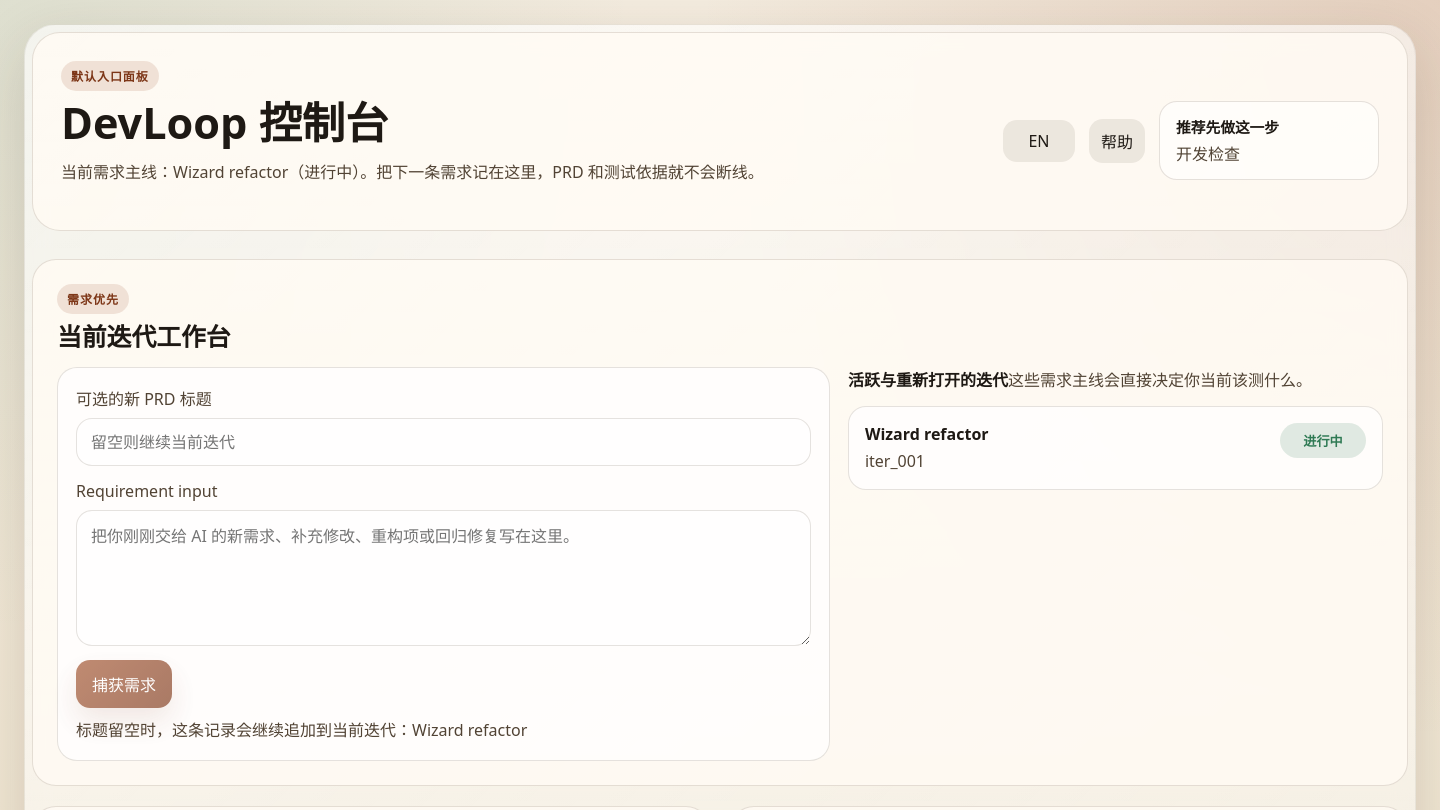
Test: Console App › defaults to browser Chinese and can switch back to English while persisting the preference
This screenshot has width=1440, height=810.
Expected: the heading "DevLoop 控制台" is shown, [61,93,388,152]
Click the button "EN" at [1039, 140], box [1003,120,1075,162]
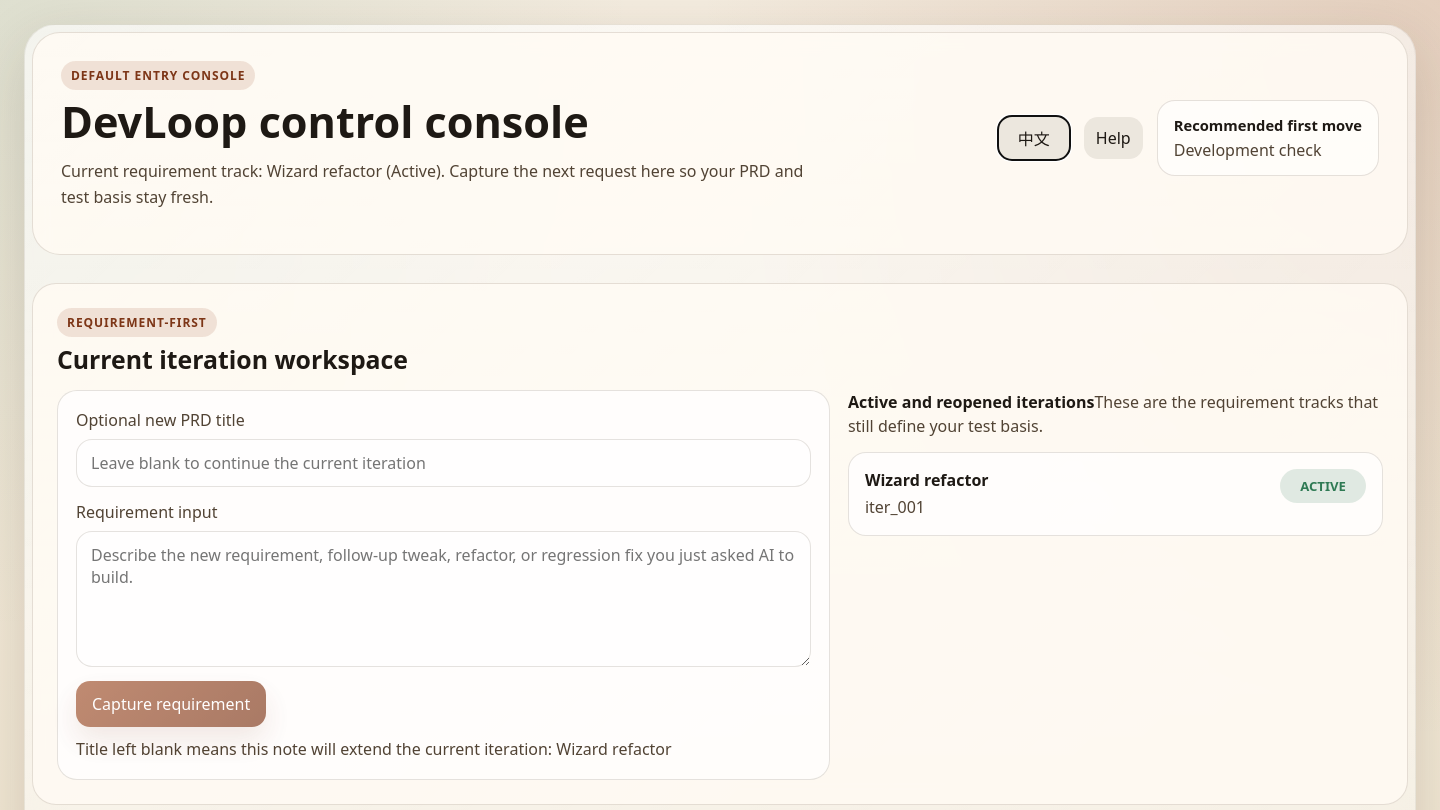
Now the heading "DevLoop control console" is shown, box [61,92,589,151]
